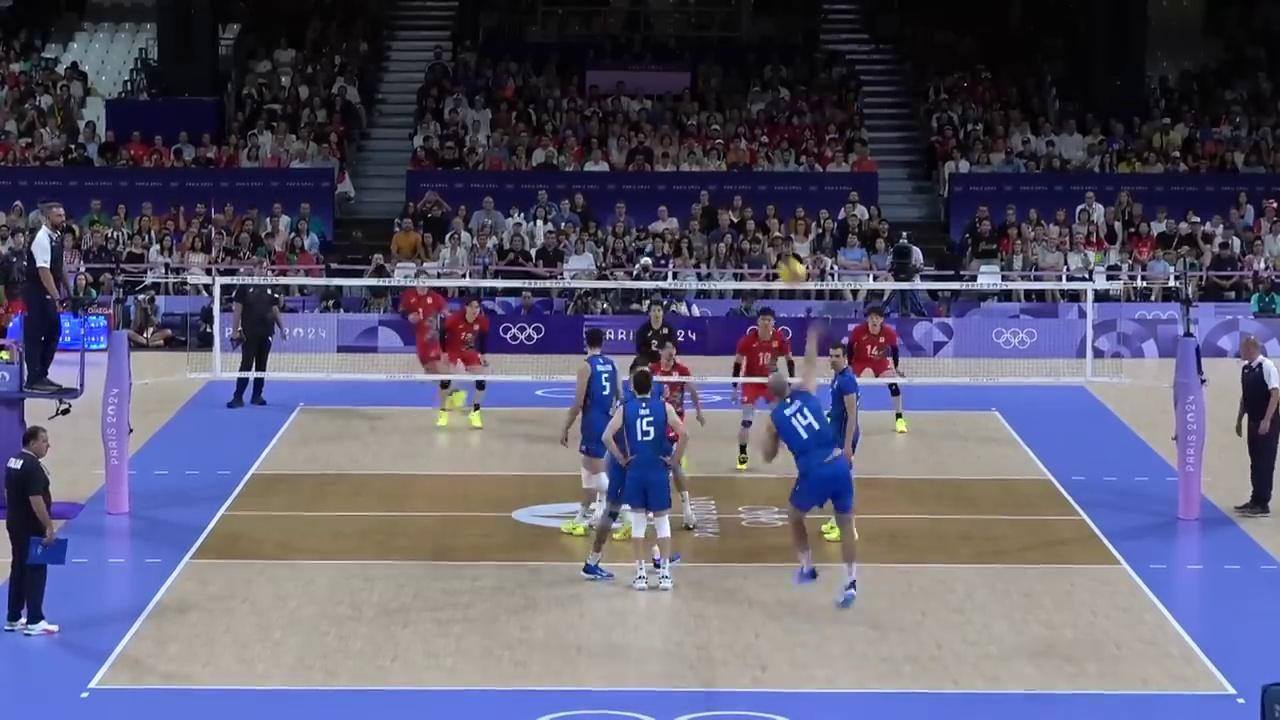ball: (778, 257, 806, 282)
